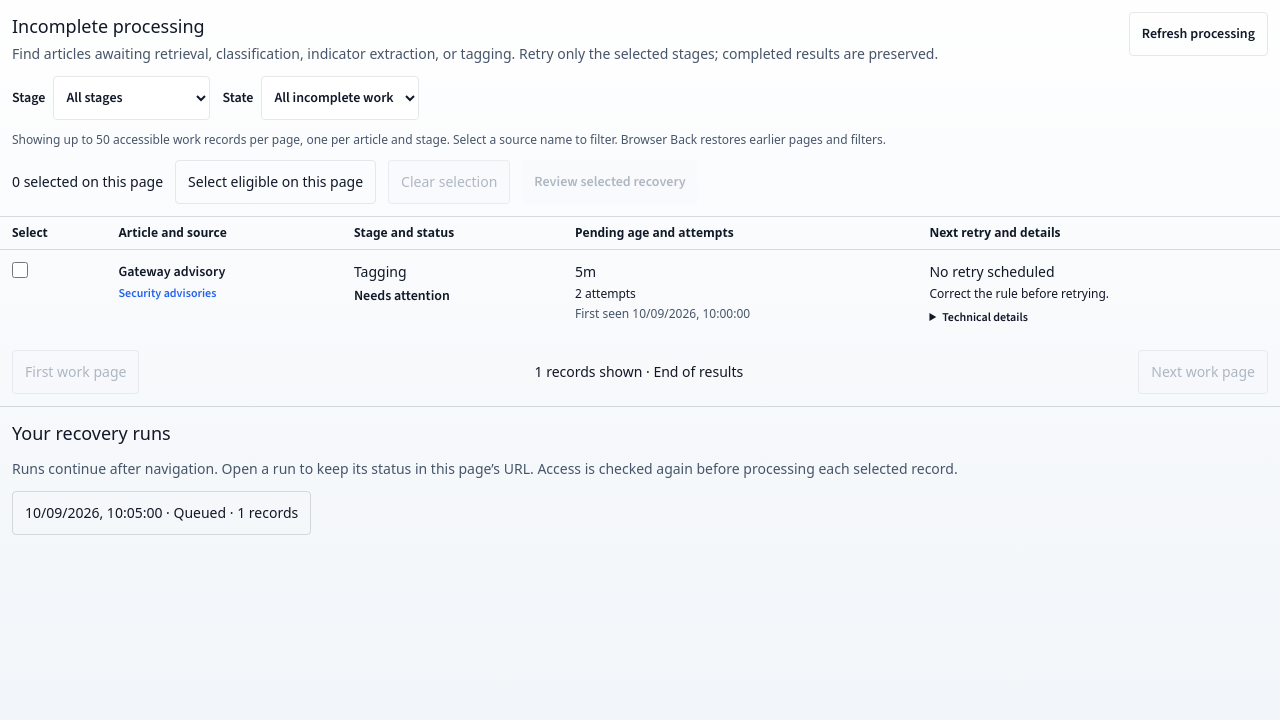
Test: processing work with actual router, session cache and mutations › blocks stale review resubmission after a selection conflict
Click the checkbox named "Select Tagging for Gateway advisory" at (20, 270), box [12,262,28,278]
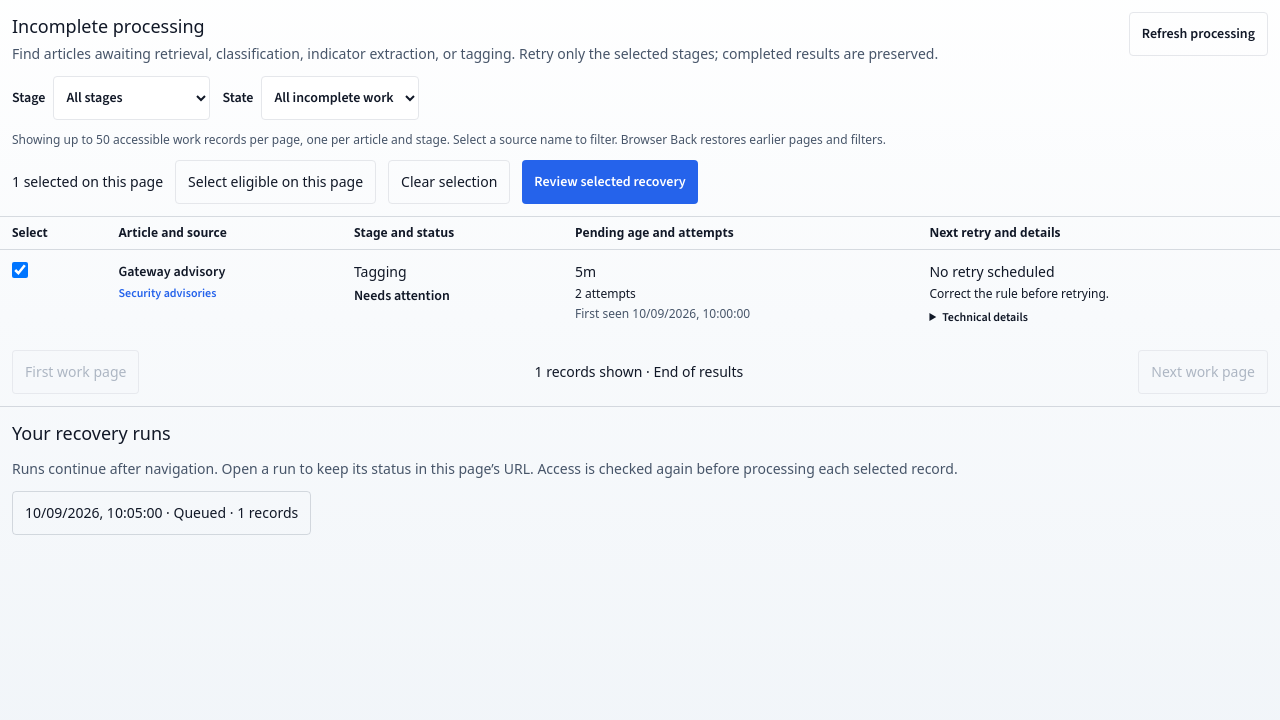
Click the button "Review selected recovery" at (610, 182), box [522,160,698,204]
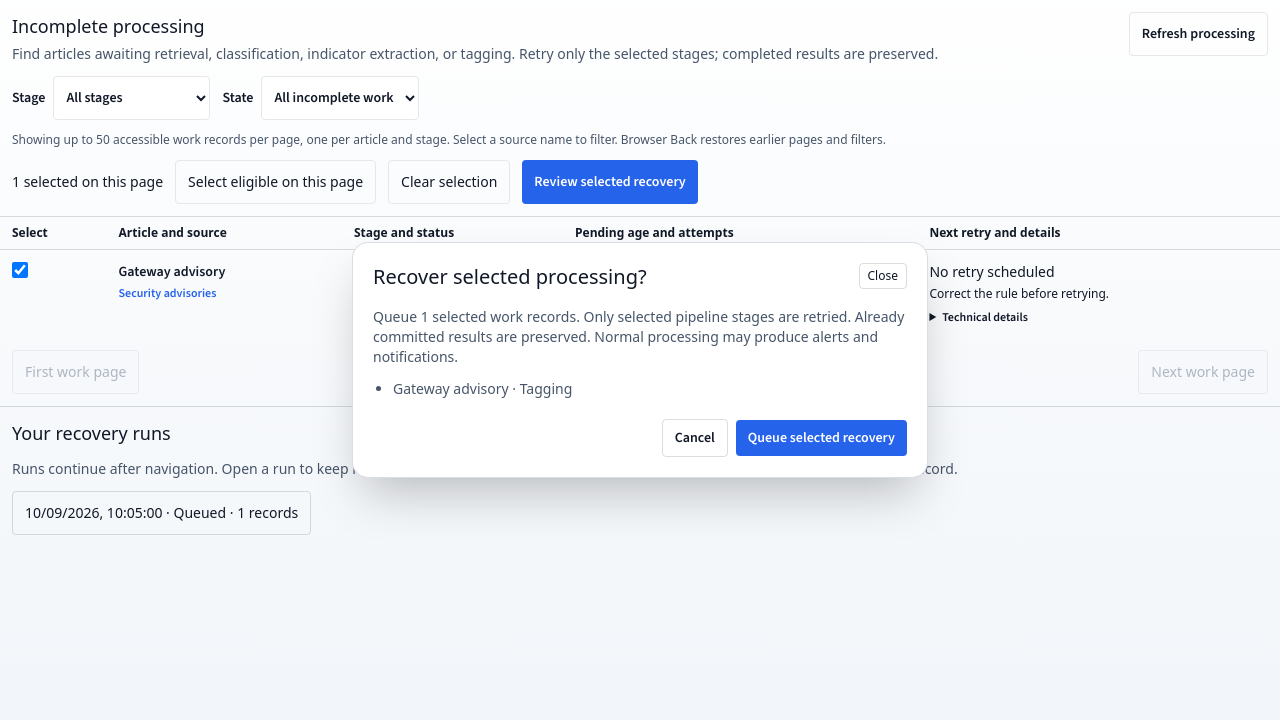
Check: the button "Queue selected recovery" is shown
Click the button "Queue selected recovery" at (821, 438), box [736,420,907,456]
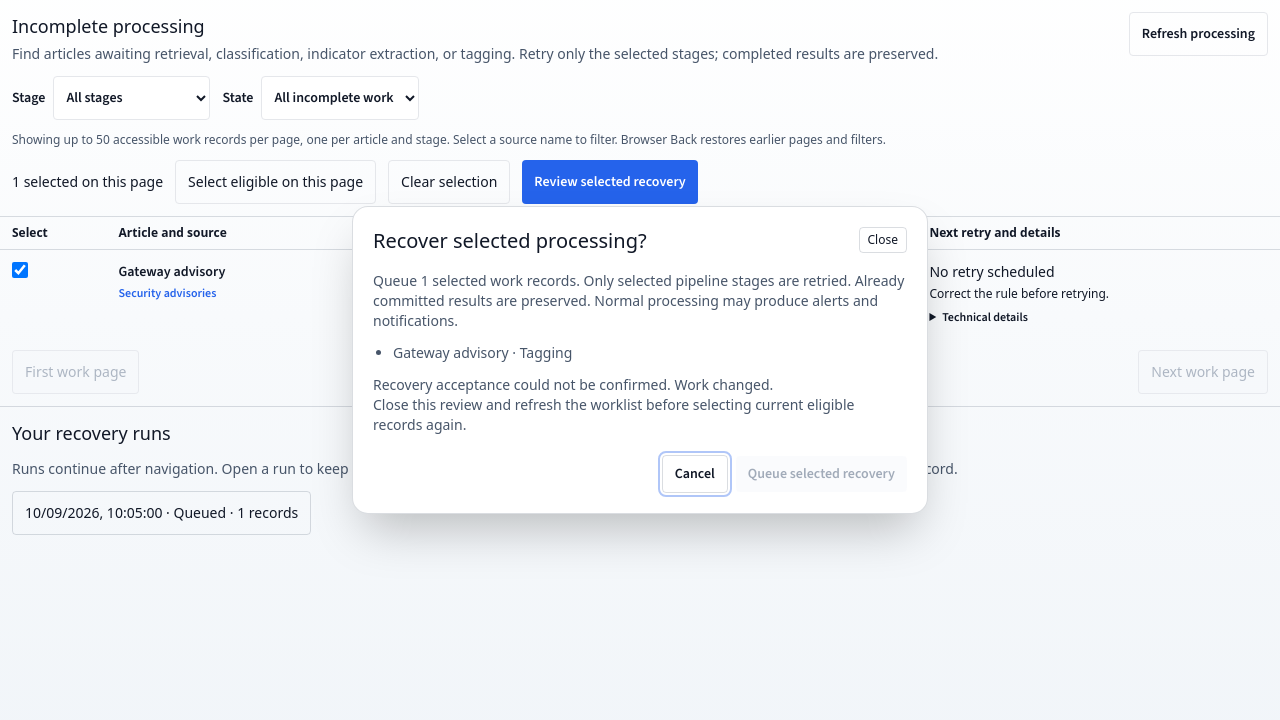
Check: the button "Queue selected recovery" is disabled, box [736,456,907,492]
Check: the text "Close this review and refresh" is shown, box [373,395,854,434]
